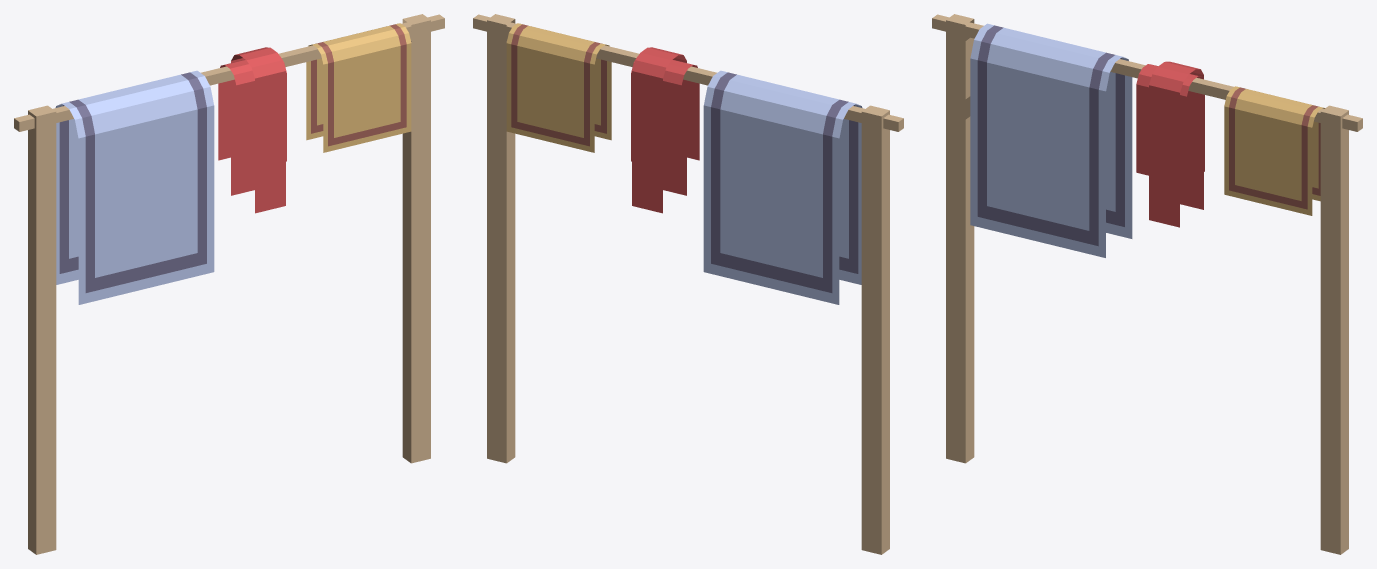
The model's file is Clothes_line.fbx.
The picture shows the model from 3 angles, left to right: view 1: azimuth 30°, elevation 25°; view 2: azimuth 150°, elevation 25°; view 3: azimuth 330°, elevation 25°; orthographic projection.
Visible parts, largest first — view 1: Clothes line; view 2: Clothes line; view 3: Clothes line.
Part boxes in pixels (<box>): Clothes line: <box>14,14,444,554</box>; Clothes line: <box>473,14,903,554</box>; Clothes line: <box>932,14,1362,554</box>.
Bounding box in the file's own units: 470 × 468 × 50.
